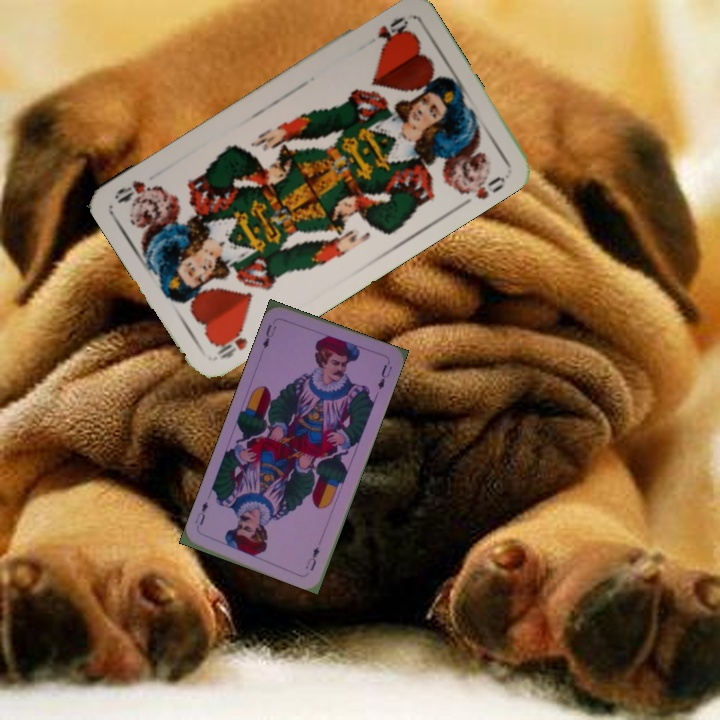EU: (259, 320, 279, 351), (302, 543, 322, 574)
HO: (211, 321, 250, 362), (374, 12, 411, 44)
